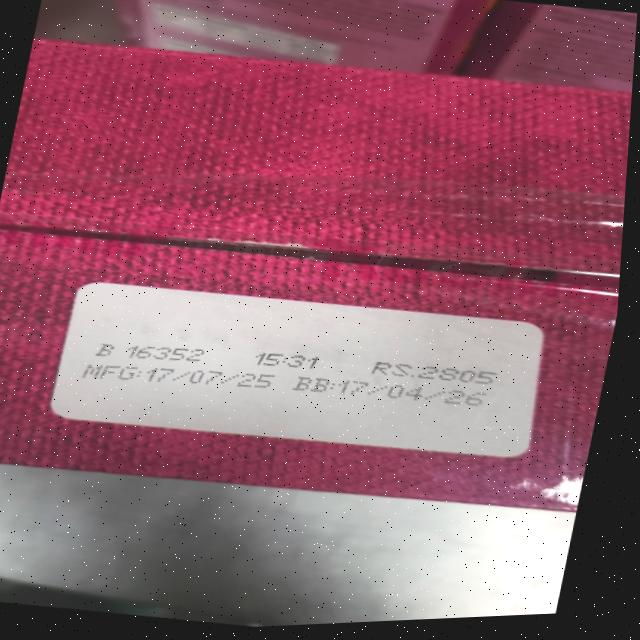BB: (294, 366, 492, 419)
Batch: (93, 336, 207, 371)
MFG: (80, 348, 279, 404)
RS: (367, 354, 501, 393)
TimeStamp: (252, 348, 323, 374)
